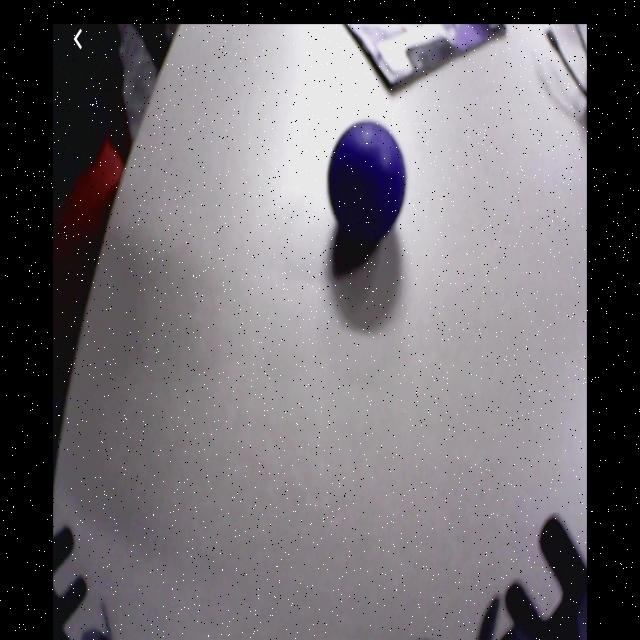ball: (329, 122, 407, 237)
